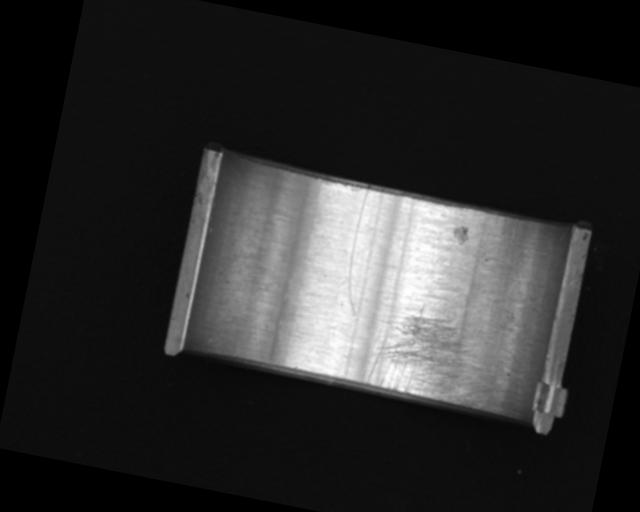bruise: (450, 223, 470, 245)
nick: (338, 185, 381, 318)
scratch: (360, 293, 495, 409)
